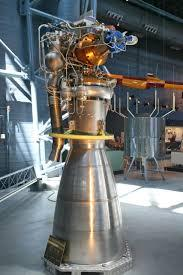thruster: (45, 150, 129, 266)
